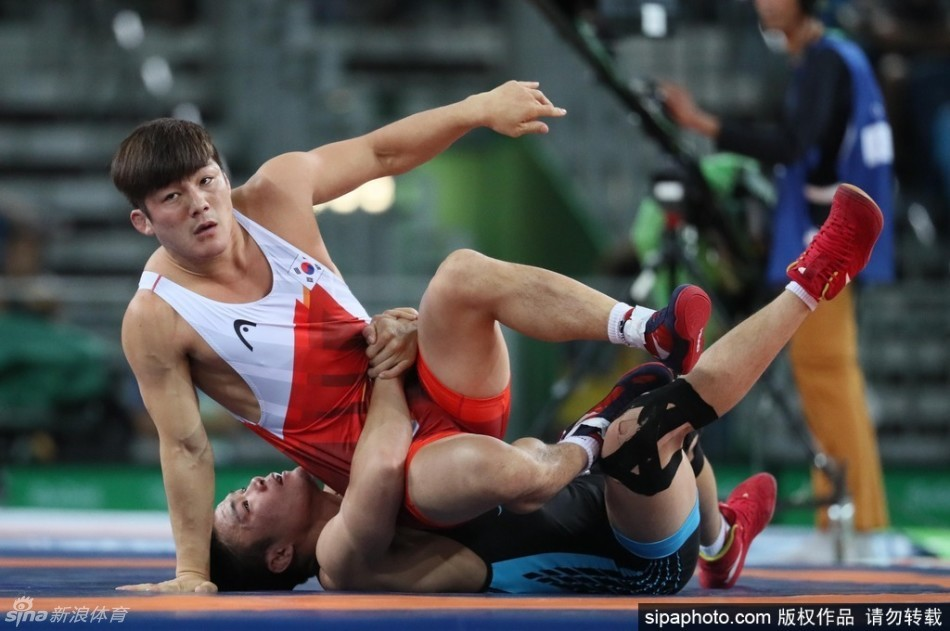fall: (87, 51, 766, 591)
